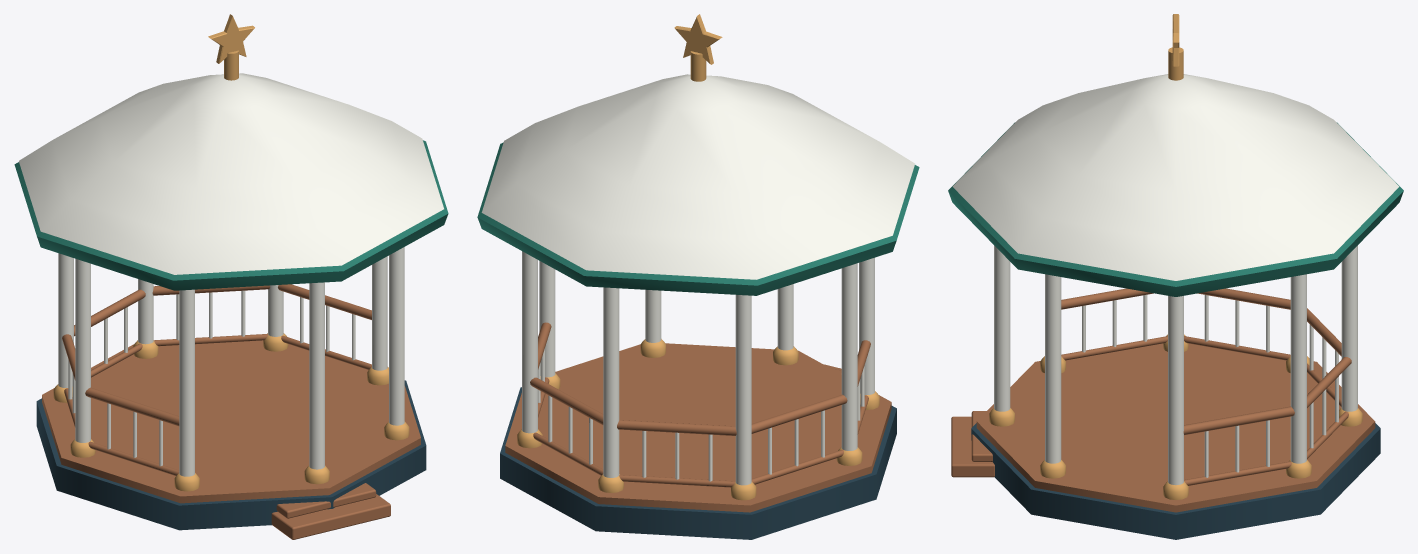
Rendered from bandstand.glb.
The picture shows the model from 3 angles, left to right: view 1: azimuth 30°, elevation 25°; view 2: azimuth 150°, elevation 25°; view 3: azimuth 270°, elevation 25°; orthographic projection.
Parts seen in each view (by area): view 1: winter-bandstand; view 2: winter-bandstand; view 3: winter-bandstand.
Part boxes in pixels (x1,y1,x2,y2): winter-bandstand: [14, 14, 448, 539]; winter-bandstand: [477, 14, 919, 539]; winter-bandstand: [948, 14, 1403, 539].
Bounding box in the file's own units: 4.12 × 4.38 × 4.12.
